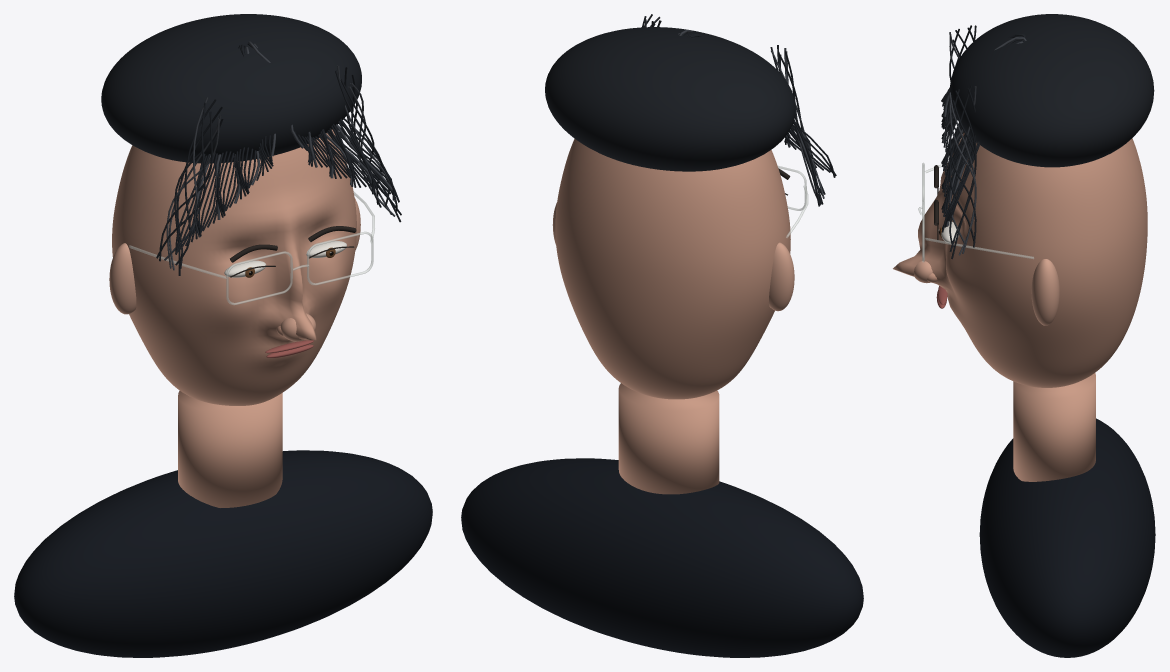
File: ernest_bust.glb
3 renders of one model, left to right at view 1: azimuth 30°, elevation 25°; view 2: azimuth 150°, elevation 25°; view 3: azimuth 270°, elevation 25°, orthographic. The views are drawn at different scales.
Visible parts, largest first — view 1: Shoulders_Shirt, Ernest_Head, Hair_Base, Neck, Ear_L; view 2: Shoulders_Shirt, Ernest_Head, Hair_Base, Neck, Ear_L; view 3: Ernest_Head, Shoulders_Shirt, Hair_Base, Neck, Ear_R, Side_Curl_R_07.
Boxes of the visible parts, x1,y1,x2,y2 form: Shoulders_Shirt: (14,450,432,657); Ernest_Head: (112,129,356,405); Hair_Base: (101,14,361,163); Neck: (178,390,282,507); Ear_L: (109,243,136,314); Shoulders_Shirt: (461,458,863,657); Ernest_Head: (555,138,790,399); Hair_Base: (545,27,795,171); Neck: (618,383,719,494); Ear_L: (768,242,794,311); Ernest_Head: (893,132,1147,387); Shoulders_Shirt: (979,418,1155,657); Hair_Base: (950,14,1154,167); Neck: (1013,373,1095,481); Ear_R: (1031,259,1059,325); Side_Curl_R_07: (951,100,976,259).
Bounding box in the file's own units: 3.44 × 4.94 × 2.04.
